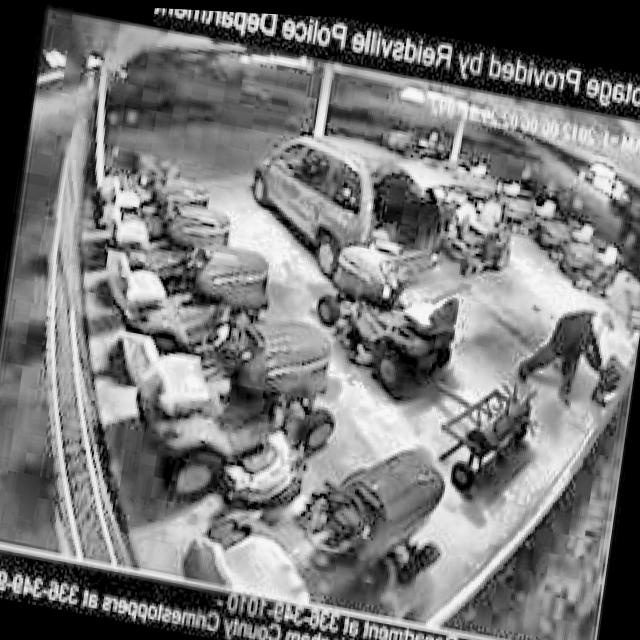burglary: (234, 111, 498, 306), (498, 278, 637, 417)
